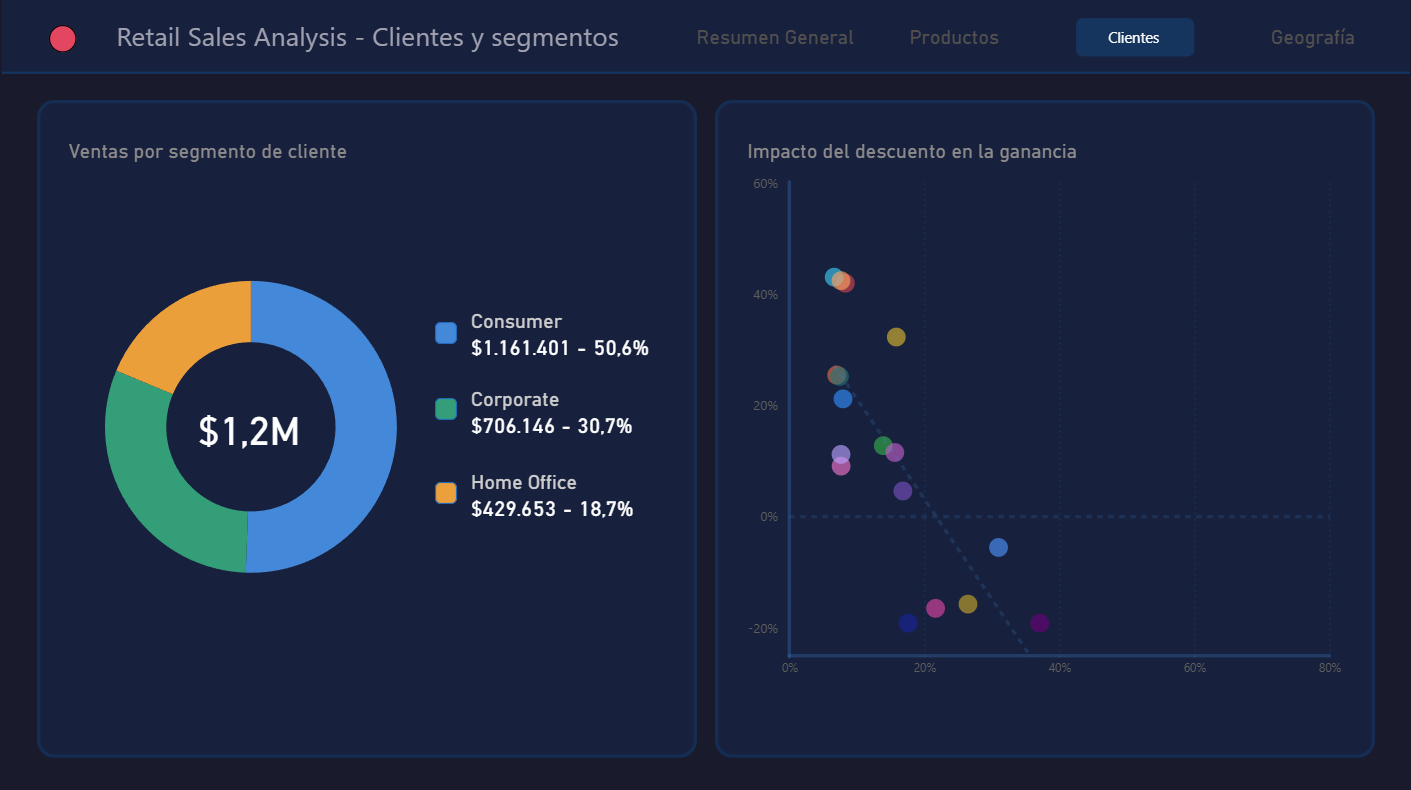

What the dashboard file says about the page in this screenshot:
{"tool":"powerbi","page":{"name":"Clientes","canvas":[1280,720],"ordinal":2},"visuals":[{"type":"shape","box":[0,0,1280,66.2],"z":0},{"type":"shape","box":[0,60,1280,12.3],"z":1000},{"type":"textbox","title":"Retail Sales Analysis - Resumen General","box":[98.8,11.2,586.2,48.8],"z":2000},{"type":"shape","box":[975,15,109.4,36.9],"z":3000},{"type":"pageNavigator","box":[626.5,12.7,642.3,40.4],"z":4000},{"type":"shape","box":[43,23,25,25],"z":5000},{"type":"shape","box":[32,91,600,598],"z":6000},{"type":"shape","box":[648,91,600,598],"z":7000},{"type":"donutChart","title":"Ventas por segmento de cliente","fields":{"Category":["vw_ventas_por_segmento.Segment"],"Y":["Sum(vw_ventas_por_segmento.Ingresos)"]},"box":[55.6,126.7,356.7,503.3],"z":8000},{"type":"cardVisual","fields":{"Data":["vw_ventas_por_segmento.Etiqueta Segmento"]},"box":[426,281,172,52],"z":9000},{"type":"cardVisual","fields":{"Data":["vw_ventas_por_segmento.Etiqueta Segmento"]},"box":[426,352,172,52],"z":10000},{"type":"cardVisual","fields":{"Data":["vw_ventas_por_segmento.Etiqueta Segmento"]},"box":[426,427,172,52],"z":11000},{"type":"shape","box":[393.8,292.8,20,20],"z":12000},{"type":"shape","box":[393.8,362.1,20,20],"z":13000},{"type":"shape","box":[393.8,438.5,20,20],"z":14000},{"type":"cardVisual","fields":{"Data":["vw_ventas_por_segmento.totalIngreso"]},"box":[168.8,337.5,111.2,103.8],"z":15000},{"type":"scatterChart","title":"Impacto del descuento en la ganancia","fields":{"X":["Avg(vw_impacto_descuento.PromedioDescuento)"],"Series":["vw_impacto_descuento.SubCategory"],"Y":["Avg(vw_impacto_descuento.PromedioMargen)"],"Category":["vw_impacto_descuento.SubCategory"]},"box":[672.5,126.2,550,498.8],"z":16000}]}

Visuals, with their boxes in screenshot pixels (x1, y1, x2, y2), scaled from the page's 1280x720 canvas onto the 1411x790 screenshot:
shape: 0, 0, 1410, 73
shape: 0, 66, 1410, 79
"Retail Sales Analysis - Resumen General" textbox: 109, 12, 755, 66
shape: 1075, 16, 1195, 57
pageNavigator: 691, 14, 1399, 58
shape: 47, 25, 75, 53
shape: 35, 100, 697, 756
shape: 714, 100, 1376, 756
"Ventas por segmento de cliente" donutChart: 61, 139, 454, 691
cardVisual - vw_ventas_por_segmento.Etiqueta Segmento: 470, 308, 659, 365
cardVisual - vw_ventas_por_segmento.Etiqueta Segmento: 470, 386, 659, 443
cardVisual - vw_ventas_por_segmento.Etiqueta Segmento: 470, 469, 659, 526
shape: 434, 321, 456, 343
shape: 434, 397, 456, 419
shape: 434, 481, 456, 503
cardVisual - vw_ventas_por_segmento.totalIngreso: 186, 370, 309, 484
"Impacto del descuento en la ganancia" scatterChart: 741, 138, 1348, 686
